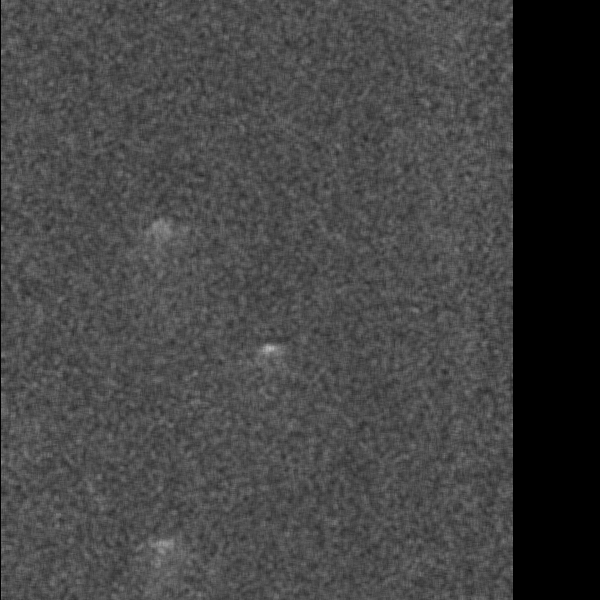spark: (300, 506, 343, 546), (364, 180, 408, 215), (294, 366, 324, 413)
